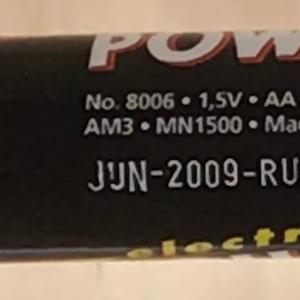keyword: (190, 83, 252, 117)
